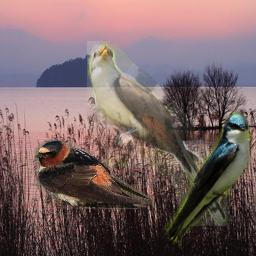Cuckoo: (87, 41, 230, 226)
Swallow: (164, 111, 253, 247), (34, 139, 153, 209)
